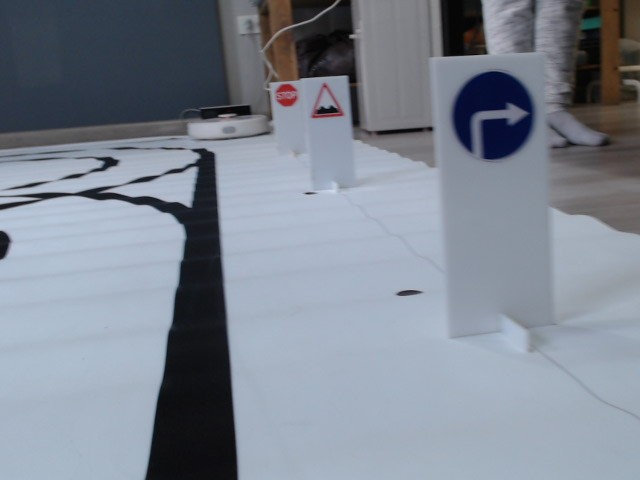Nerov: (310, 82, 344, 118)
Right: (451, 70, 537, 163)
Stop: (273, 84, 297, 107)
